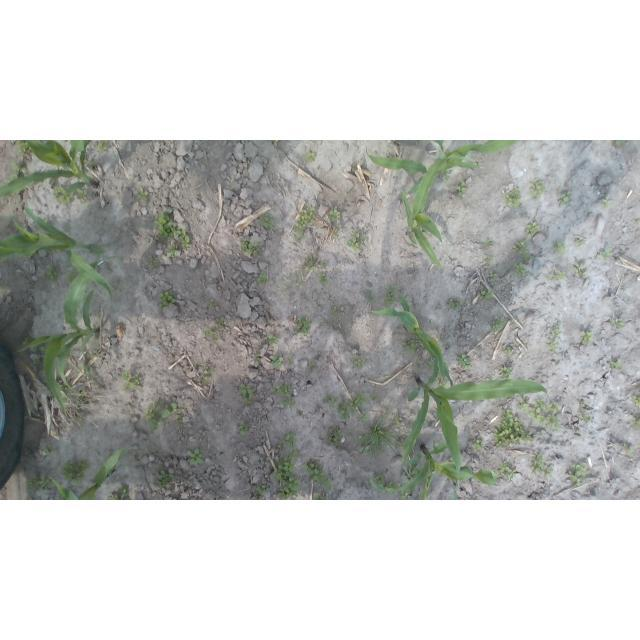Maize: (400, 377, 550, 490), (17, 256, 116, 419), (1, 204, 112, 300), (368, 292, 455, 389), (366, 140, 518, 194), (367, 444, 498, 501), (1, 140, 100, 198), (46, 447, 130, 500), (400, 185, 443, 268)
Weeds: (495, 409, 533, 447), (272, 451, 301, 500), (357, 424, 395, 456), (529, 398, 561, 430), (292, 206, 316, 243), (304, 459, 332, 489), (337, 396, 368, 423), (153, 211, 181, 239), (60, 459, 88, 485), (24, 475, 57, 493), (142, 403, 162, 431), (532, 454, 553, 479), (8, 159, 28, 183), (155, 469, 176, 489), (568, 464, 586, 487), (51, 184, 71, 204), (347, 231, 366, 252), (240, 239, 260, 258), (495, 460, 515, 479), (504, 188, 522, 209), (528, 179, 545, 201), (239, 384, 257, 404), (295, 315, 313, 335), (161, 403, 180, 420), (123, 371, 140, 390), (188, 448, 205, 467), (159, 292, 178, 309), (108, 484, 128, 500), (327, 429, 343, 448), (280, 432, 297, 449), (403, 339, 422, 354), (44, 264, 60, 281), (259, 215, 276, 231), (273, 381, 292, 395), (384, 286, 397, 306), (15, 140, 31, 156), (512, 261, 528, 277), (525, 222, 540, 239), (547, 268, 566, 281), (251, 484, 266, 500), (455, 355, 471, 369), (178, 229, 190, 247), (512, 239, 527, 253), (559, 191, 572, 207), (492, 316, 505, 332), (574, 262, 587, 278), (599, 247, 613, 261), (328, 207, 342, 221), (135, 187, 150, 200), (497, 367, 512, 380), (236, 420, 248, 436), (352, 357, 367, 369), (479, 288, 494, 300), (554, 239, 566, 254), (271, 355, 284, 368), (580, 332, 593, 345), (323, 395, 337, 407), (96, 140, 108, 154), (456, 182, 467, 197), (372, 472, 385, 484), (75, 188, 87, 201), (280, 397, 294, 408), (448, 300, 462, 311), (167, 245, 178, 258), (609, 359, 623, 369), (257, 272, 269, 283), (204, 329, 215, 340), (306, 151, 317, 162), (407, 467, 418, 478), (440, 170, 452, 180), (471, 440, 483, 450), (546, 341, 558, 351), (611, 319, 624, 328), (623, 444, 633, 455), (400, 490, 411, 500), (216, 316, 225, 328), (632, 396, 640, 409), (269, 335, 279, 345), (66, 273, 77, 282), (393, 416, 404, 425), (32, 356, 44, 364), (615, 141, 628, 148), (633, 417, 640, 430), (438, 380, 448, 389), (29, 180, 43, 186), (600, 200, 609, 209), (519, 402, 529, 410), (552, 327, 562, 335), (574, 239, 585, 246), (320, 274, 328, 283), (306, 260, 314, 269), (40, 343, 48, 352), (60, 395, 69, 403), (504, 347, 513, 355), (64, 227, 72, 234), (82, 389, 89, 397), (578, 402, 585, 410), (202, 365, 208, 374), (149, 258, 156, 265), (487, 258, 494, 265), (43, 447, 50, 454), (201, 376, 207, 384), (59, 383, 67, 389), (523, 252, 529, 260), (314, 495, 323, 500), (485, 240, 494, 245), (210, 300, 215, 309), (321, 261, 328, 267), (428, 363, 435, 369), (395, 438, 401, 444), (584, 415, 590, 421), (371, 396, 377, 401), (493, 273, 498, 279), (387, 483, 394, 487), (332, 309, 336, 316), (76, 400, 81, 405), (256, 355, 261, 360), (309, 363, 313, 367)
